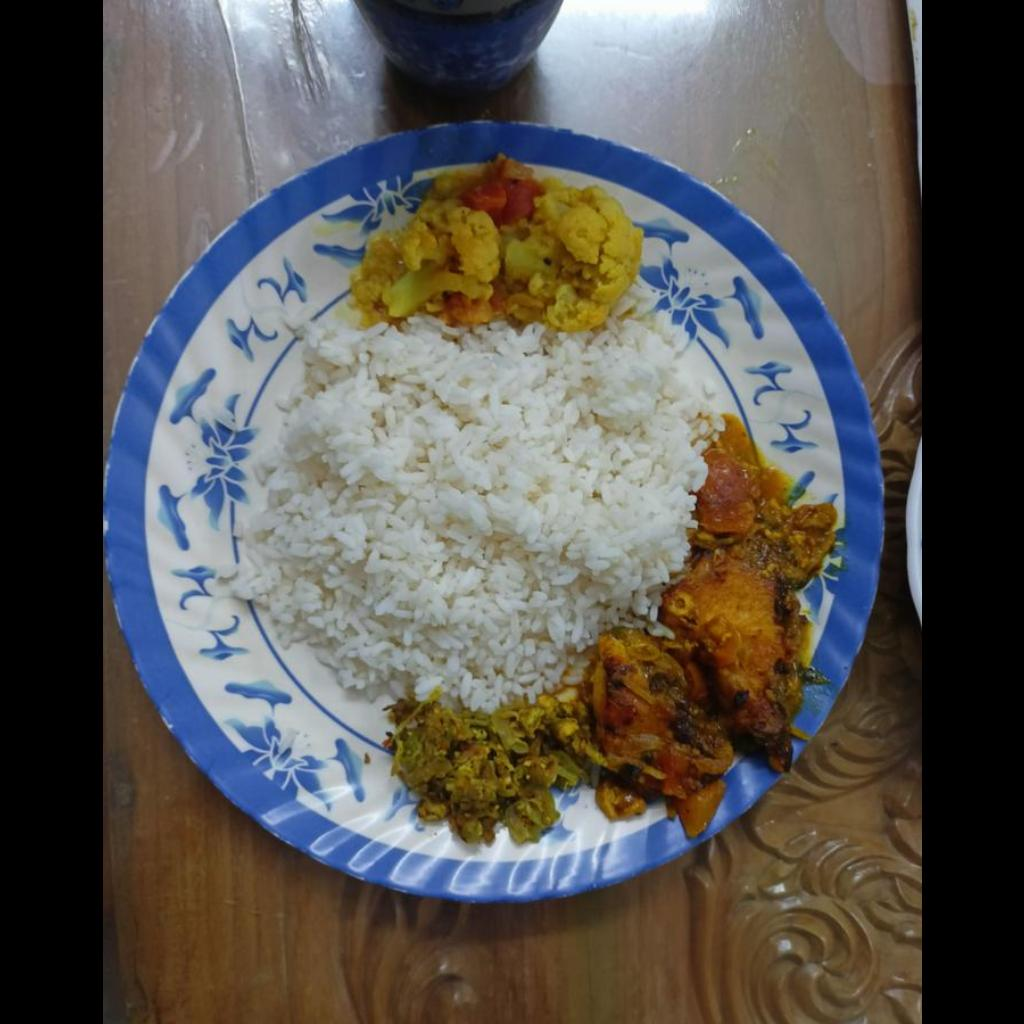achar: (586, 629, 732, 809)
fish: (662, 521, 803, 775)
rice: (228, 326, 721, 710)
vaji: (347, 159, 644, 333)
vorta: (383, 698, 594, 857)
